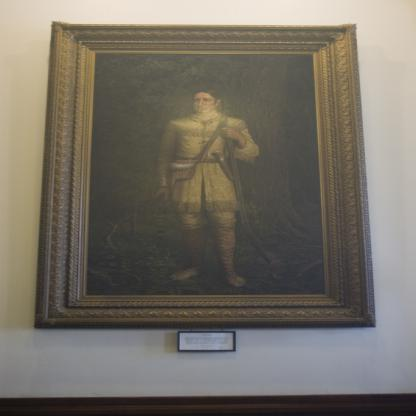Picture-frame: (36, 20, 384, 334)
